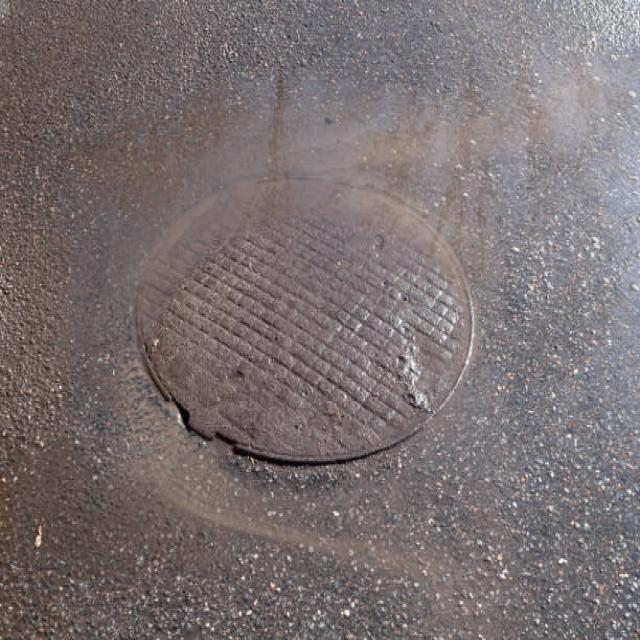Good: (128, 167, 484, 472)
